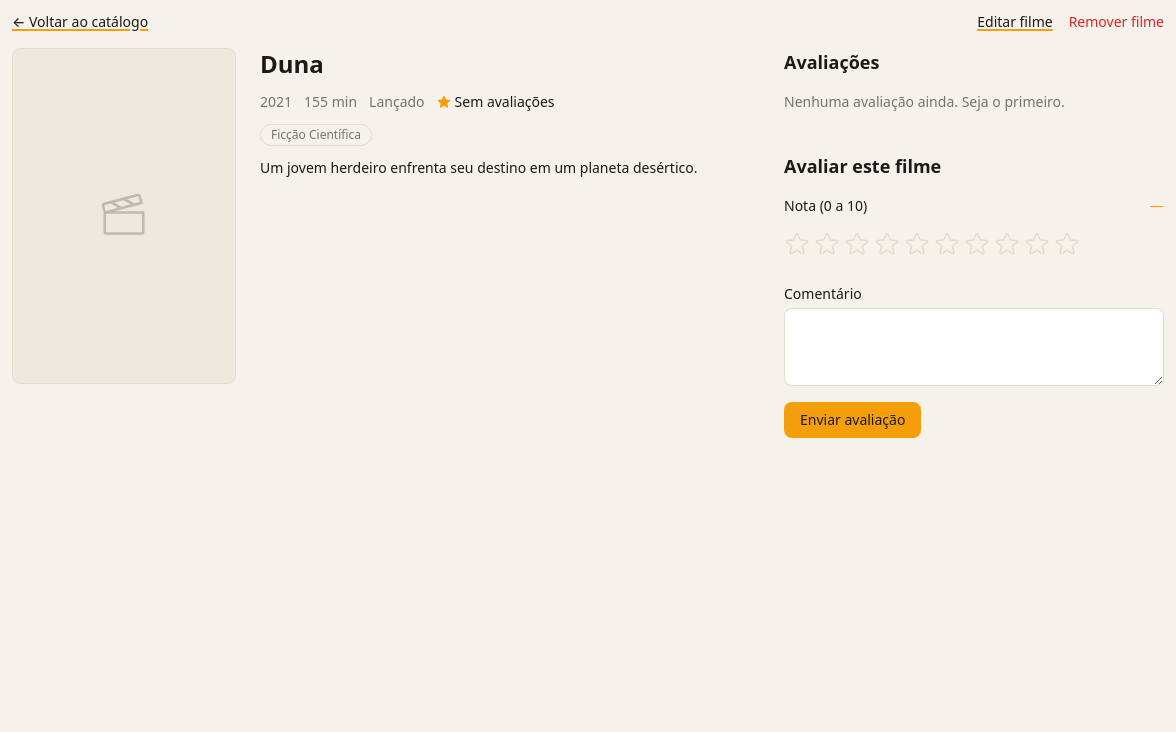
Test case: MovieDetailPage › deleting the movie › shows a success toast and navigates to the catalog on success
The image size is (1176, 732).
Click the button "Remover filme".
click(1116, 22)  # box [1069,12,1164,32]
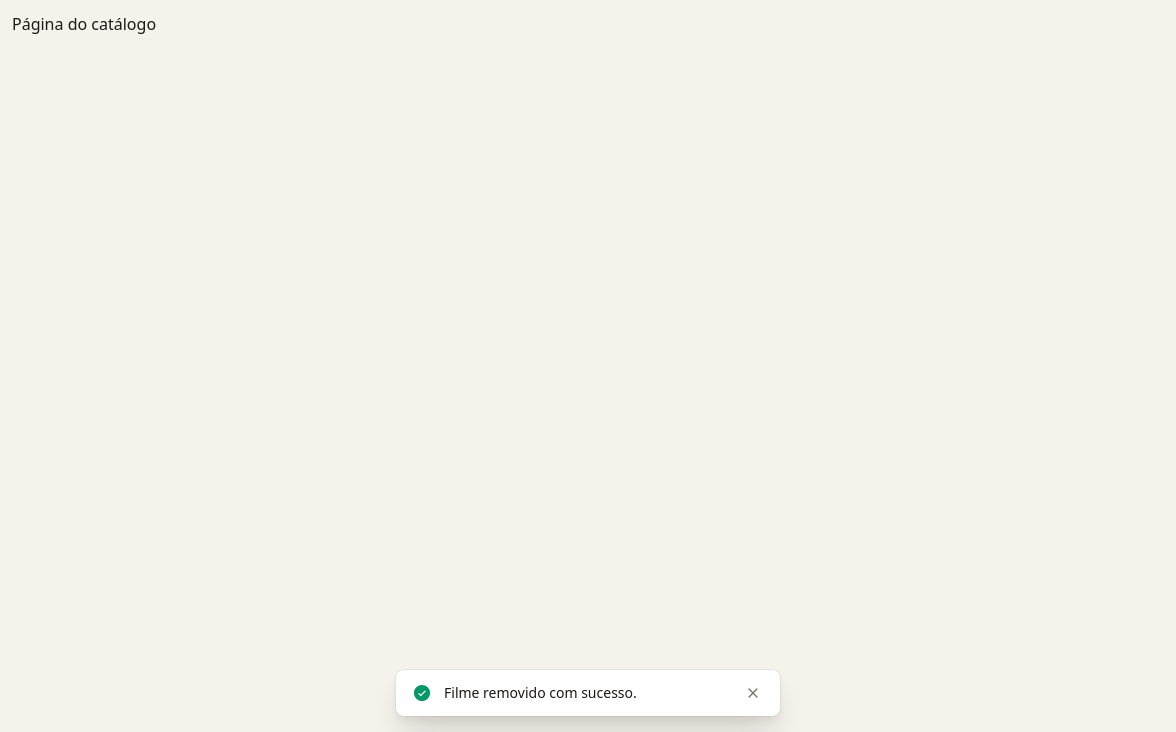
expect the text "Filme removido com sucesso." is shown: met, box [444,683,637,702]
expect the text "Página do catálogo" is shown: met, box [12,13,156,35]
